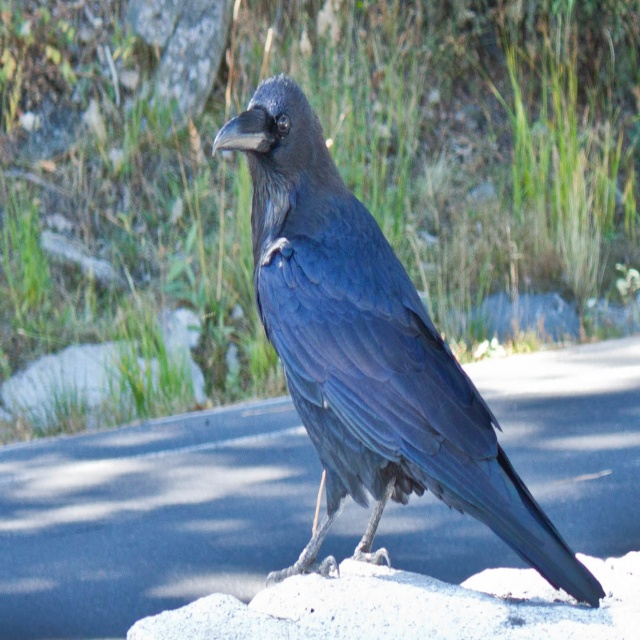Raven: (212, 71, 606, 608)
